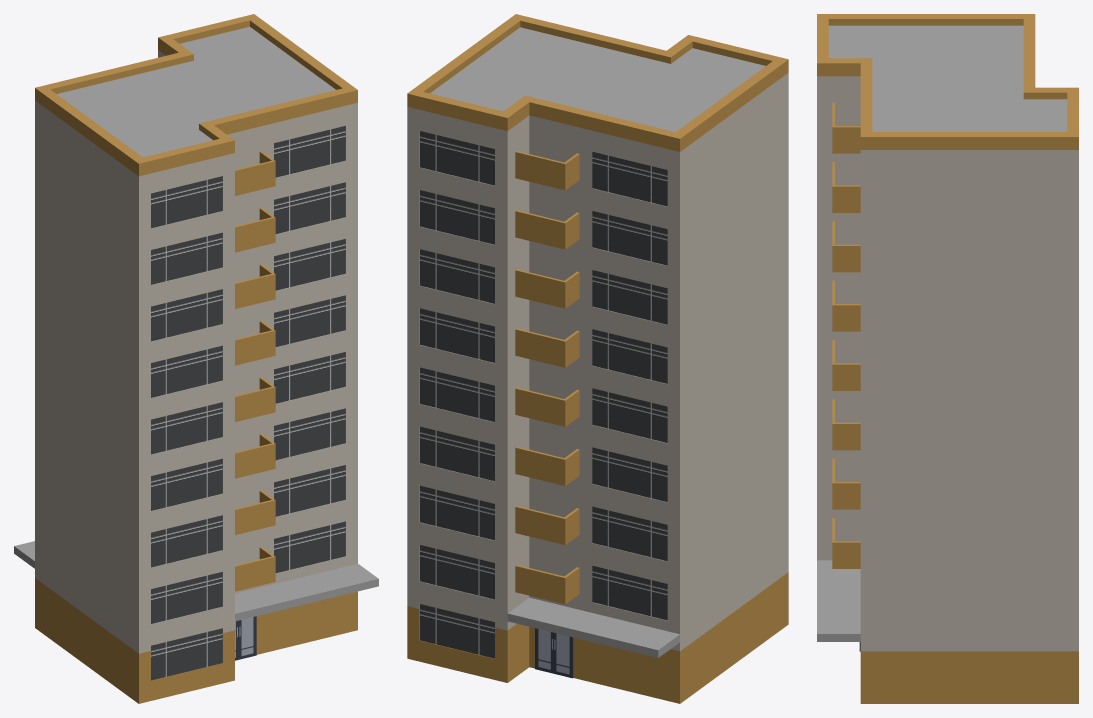
The model's file is spw-urban-bldg-05.glb.
3 views of the same model, side by side, from view 1: azimuth 30°, elevation 25°; view 2: azimuth 150°, elevation 25°; view 3: azimuth 270°, elevation 25° (orthographic). The views are drawn at different scales.
Parts seen in each view (by area): view 1: SPW_Urban_Bldg_05; view 2: SPW_Urban_Bldg_05; view 3: SPW_Urban_Bldg_05.
Boxes of the visible parts, x1,y1,x2,y2 form: SPW_Urban_Bldg_05: [14, 14, 378, 703]; SPW_Urban_Bldg_05: [407, 14, 788, 703]; SPW_Urban_Bldg_05: [817, 14, 1078, 703].
Bounding box in the file's own units: 17.5 × 37.63 × 15.75.
Materials: 1 (1 with a texture image).
